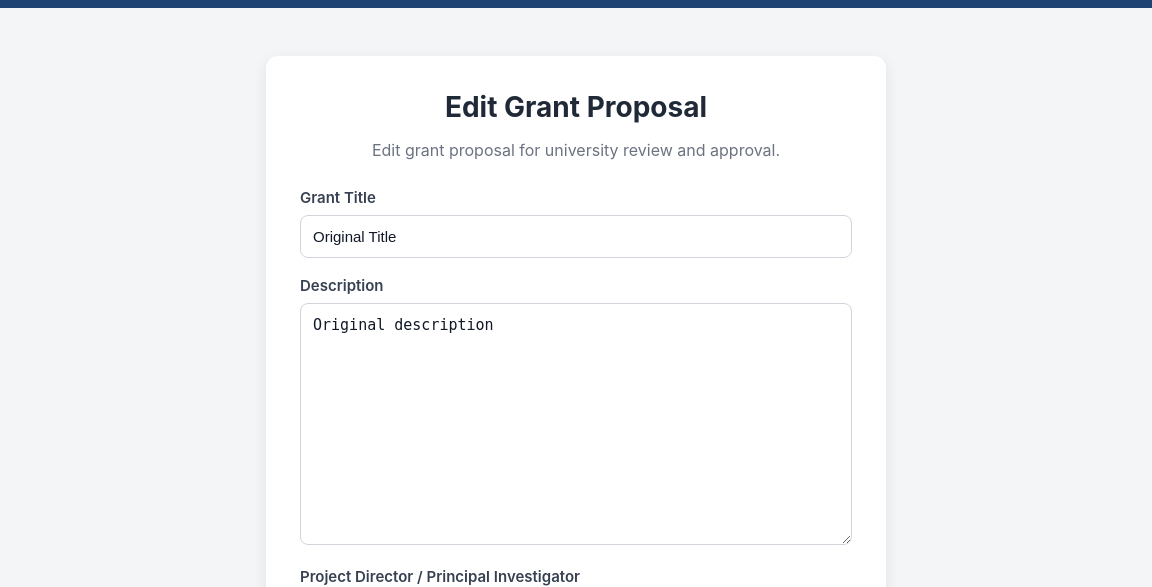
Test: EditGrant › shows validation errors and does not submit when required fields are cleared
The width and height of the screenshot is (1152, 587).
Clear the field labelled "Grant Title" at [576, 236], box [300,215,852,258]
(page scrolled)
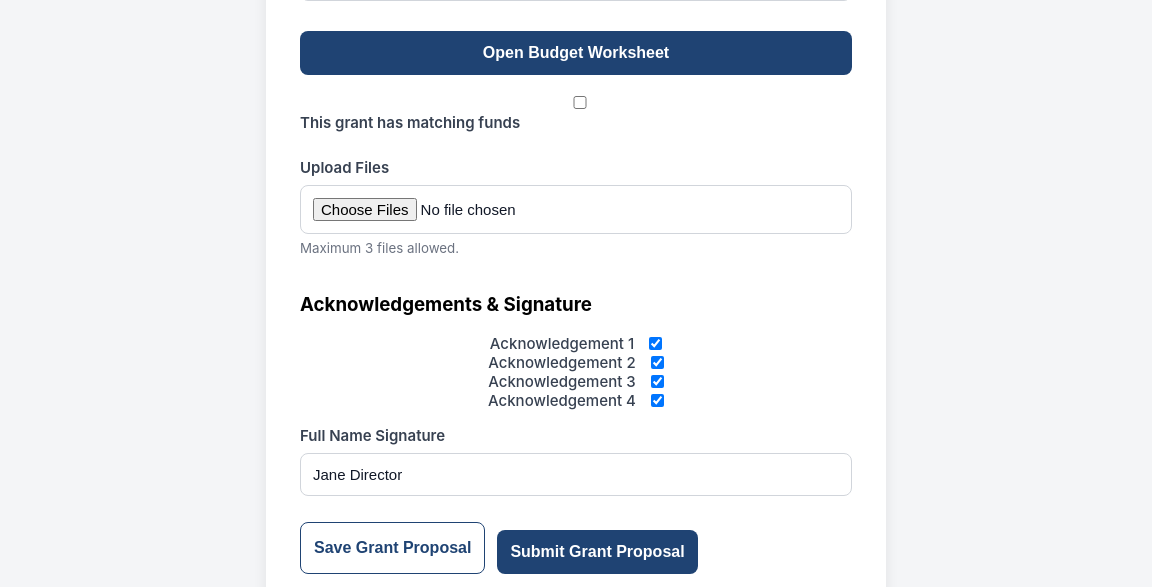
Click the button "Submit Grant Proposal" at [598, 552], box [497,530,698,574]
(page scrolled)
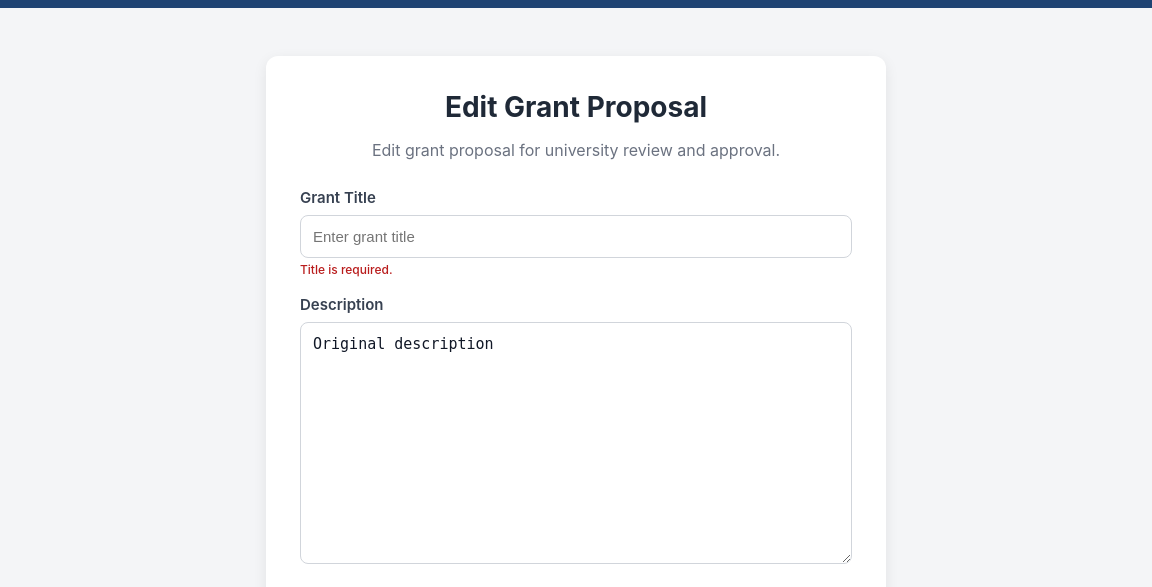
Expected: the text "Title is required." is shown, [300,262,393,277]
